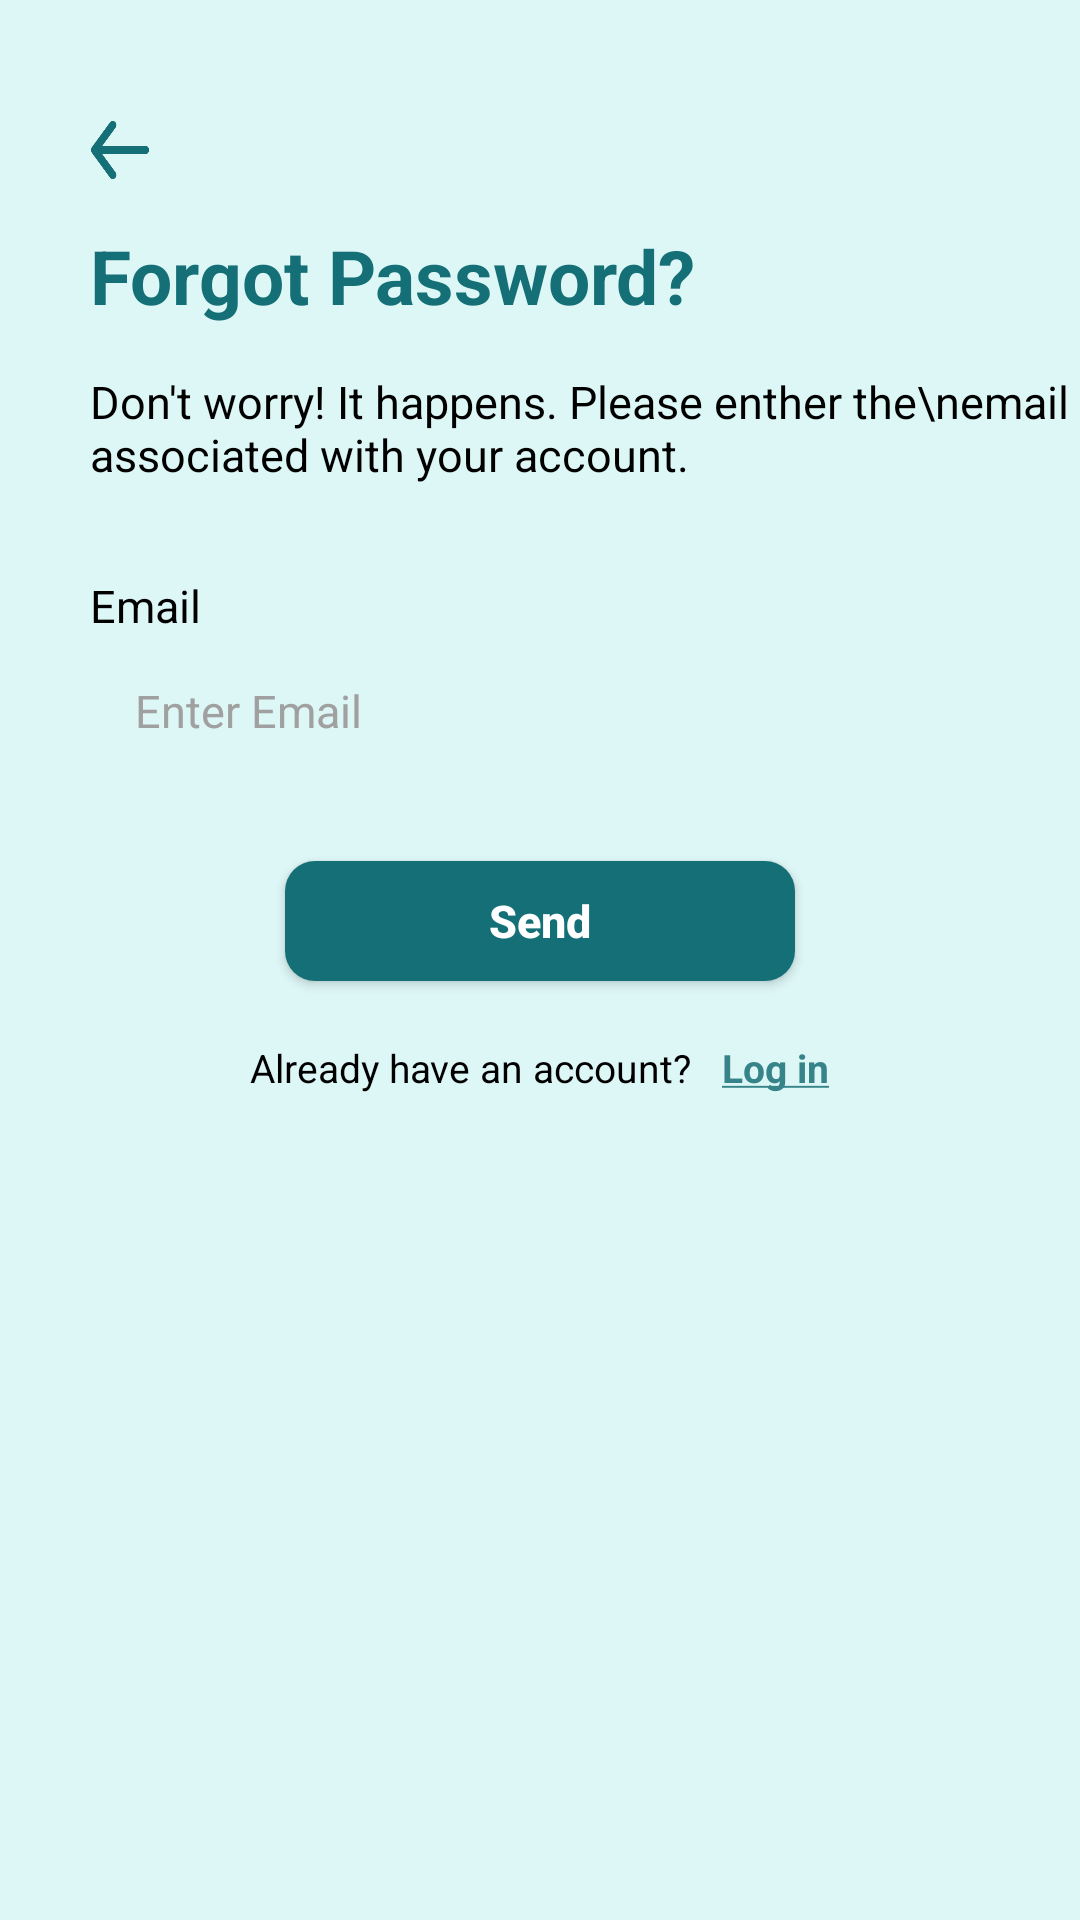

Point at icon controls on the screen. Image size 1080×1920, points as (x=x, y=y).
back arrow: (x=120, y=150)
